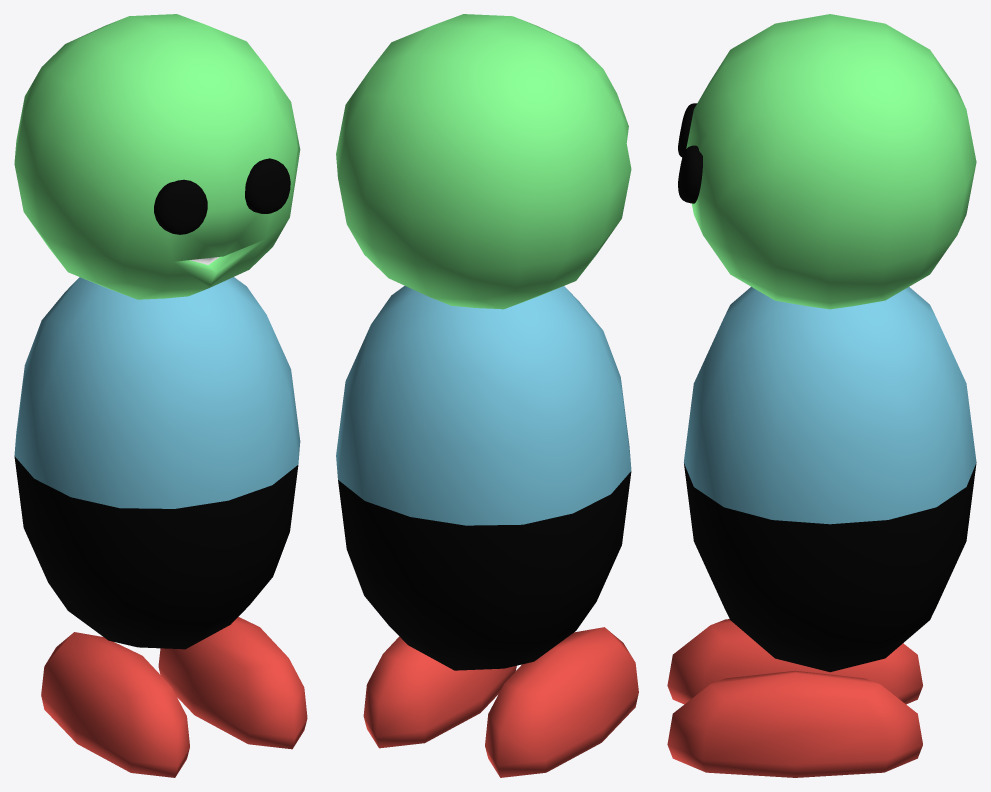
The model's file is GenericCharacter.glb.
The picture shows the model from 3 angles, left to right: view 1: azimuth 30°, elevation 25°; view 2: azimuth 150°, elevation 25°; view 3: azimuth 270°, elevation 25°; orthographic projection. The views are drawn at different scales.
Visible parts, largest first — view 1: Body, Head, ShoesR, ShoesL, Eyes; view 2: Body, Head, ShoesR, ShoesL; view 3: Body, Head, ShoesL, ShoesR, Eyes.
Part boxes in pixels (x1,y1,x2,y2): Body: [14, 277, 300, 649]; Head: [14, 14, 300, 299]; ShoesR: [41, 632, 189, 777]; ShoesL: [158, 617, 307, 749]; Eyes: [154, 158, 290, 234]; Body: [336, 286, 631, 670]; Head: [336, 14, 631, 309]; ShoesR: [485, 627, 638, 777]; ShoesL: [363, 636, 516, 748]; Body: [683, 287, 976, 672]; Head: [686, 14, 976, 309]; ShoesL: [667, 670, 922, 777]; ShoesR: [667, 619, 922, 704]; Eyes: [678, 103, 702, 203].
Bounding box in the file's own units: 1.68 × 4.44 × 1.77.
